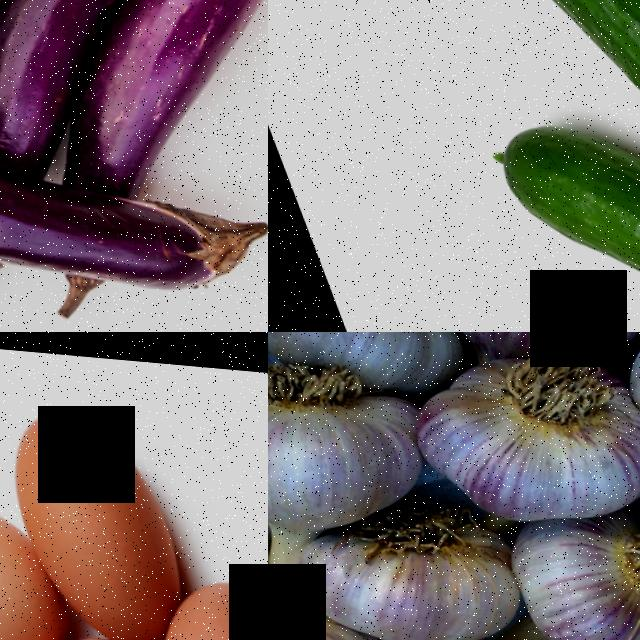cucumber: (453, 71, 640, 311), (421, 0, 640, 135), (536, 170, 640, 332)
egg_: (0, 378, 201, 640), (107, 551, 268, 640), (0, 459, 69, 640)
eggplant: (0, 112, 268, 332), (89, 0, 268, 116)
garlic: (388, 332, 640, 551), (281, 488, 533, 640), (268, 350, 441, 560), (487, 485, 640, 640), (268, 332, 476, 423), (416, 332, 640, 380)
